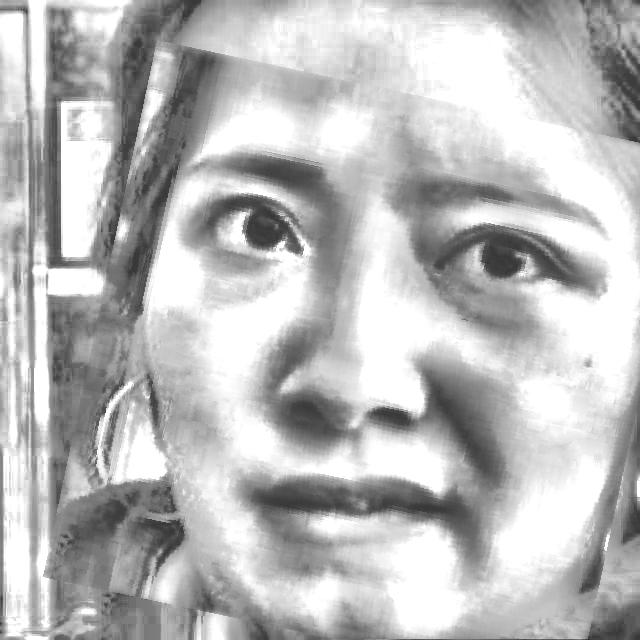angry: (68, 65, 640, 640)
